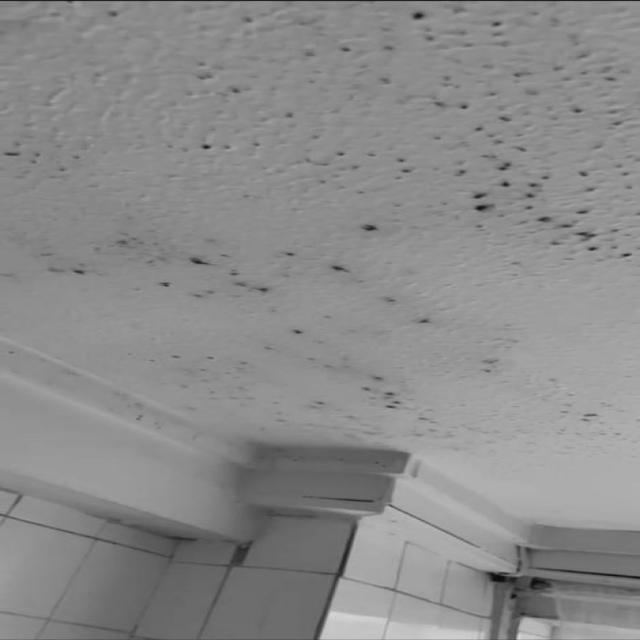stain marks: (404, 1, 634, 268), (0, 310, 416, 452), (190, 4, 404, 213), (412, 294, 640, 480), (0, 0, 185, 203), (2, 218, 404, 307)
